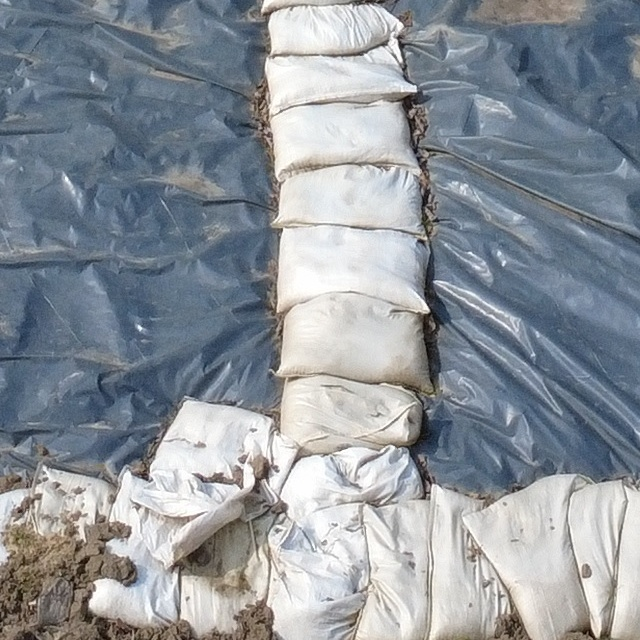sandbag: (130, 400, 297, 567), (464, 475, 589, 640), (428, 486, 527, 640), (279, 294, 431, 393), (89, 472, 179, 628), (268, 505, 369, 640), (277, 226, 429, 314), (180, 506, 280, 636), (266, 38, 416, 115), (271, 103, 417, 180), (280, 377, 423, 454), (275, 166, 424, 236), (355, 501, 429, 640), (281, 447, 423, 518), (570, 482, 627, 637), (269, 5, 401, 56), (31, 467, 114, 538), (610, 490, 640, 640)
